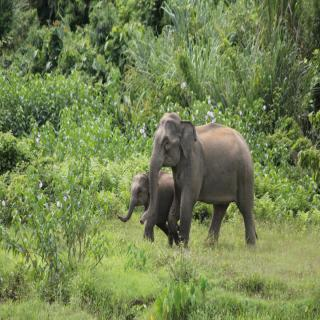Elephant: (138, 110, 268, 254), (116, 170, 190, 246)
